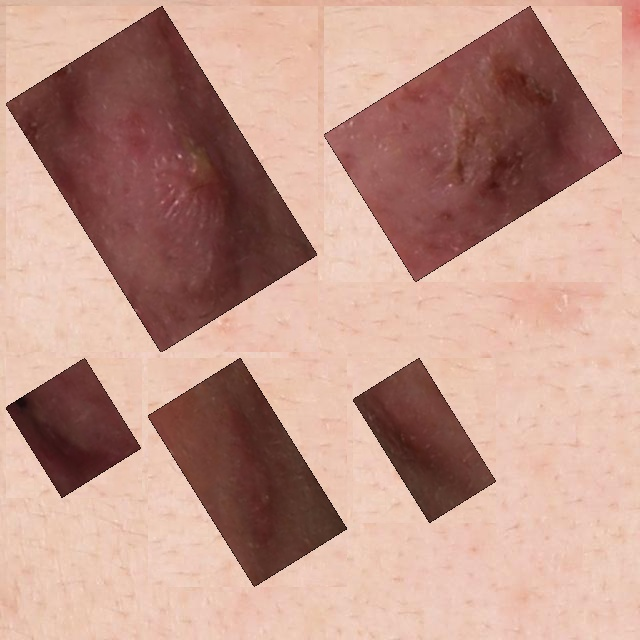nodule: (17, 17, 306, 341), (335, 17, 611, 270), (159, 369, 336, 575), (364, 369, 485, 511), (17, 369, 130, 486)
